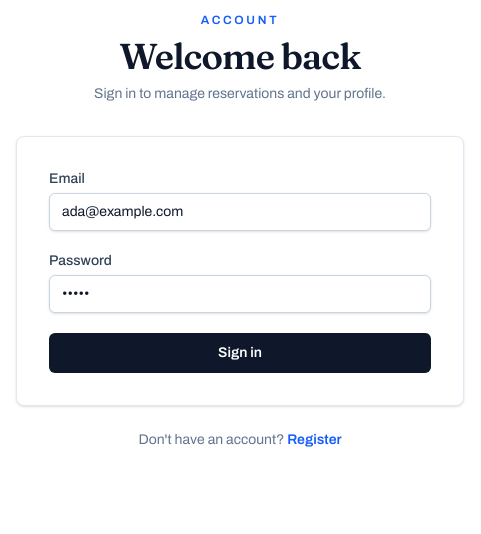
Login › shows the error message and does not navigate on failed login
Click the submit button.
click(240, 353)  # box [49,333,431,373]
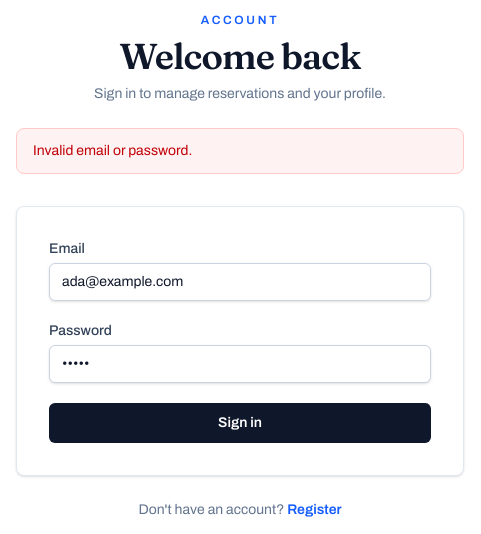
Expected: the text "Invalid email or password." is shown, [16,128,464,174]
